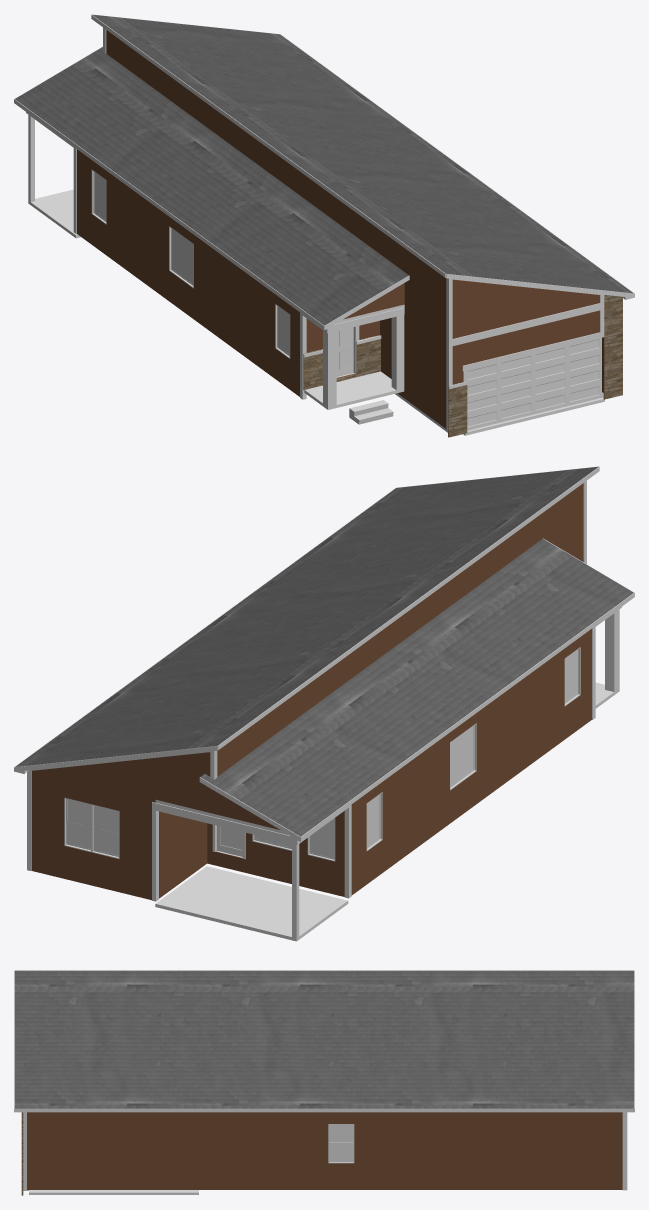
Rendered from 129-1335-dm-modern.glb.
3 views of the same model, one above another, from view 1: azimuth 30°, elevation 25°; view 2: azimuth 150°, elevation 25°; view 3: azimuth 270°, elevation 25° (orthographic). The views are drawn at different scales.
Visible parts, largest first — view 1: Basic Roof Wood Rafter 4" - Asphalt Shingle - Insulated_9c4c, Basic Roof Wood Rafter 4" - Asphalt Shingle - Insulated_3fec, Basic Wall BSB Exterior - Stud_3.5" - Sheathing_0.5" - _a010, Basic Wall BSB Exterior - Stud_3.5" - Sheathing_0.5" - _12ea, Traditional - BSB Exterior - Overhead Garage Door - Clo_92db, Basic Wall BSB Exterior - Stud_3.5" - Sheathing_0.5" - _44ac, Fascia Fascia-Flat 1x6 w/12" Soffit Bd [4538352], Basic Wall BSB Exterior - Stud_3.5" - Sheathing_0.5" - _518d, Basic Wall BSB Exterior - Stud_3.5" - Sheathing_0.5" - _adc4, Basic Wall BSB Exterior - Stud_3.5" - Sheathing_0.5" - _a289, Basic Wall BSB Exterior - Stone Veneer_2" [4522502], Trim - Corner Boards3 Trim - Corner Boards [4522610] (+18 smaller); view 2: Basic Roof Wood Rafter 4" - Asphalt Shingle - Insulated_9c4c, Basic Roof Wood Rafter 4" - Asphalt Shingle - Insulated_3fec, Basic Wall BSB Exterior - Stud_3.5" - Sheathing_0.5" - _a010, Basic Wall BSB Exterior - Stud_3.5" - Sheathing_0.5" - _12ea, Basic Wall BSB Exterior - Stud_3.5" - Sheathing_0.5" - _e5d4, Floor BSB Concrete Slab - 4" - Slope Option [4260206], Basic Wall BSB Exterior - Stud_3.5" - Sheathing_0.5" - _44ac, Fascia Fascia-Flat 1x6 w/12" Soffit Bd [4538352], Basic Wall BSB Exterior - Stud_3.5" - Sheathing_0.5" - _2ec2, Basic Wall BSB Exterior - Stud_3.5" - Sheathing_0.5" - _a39f, Basic Wall BSB Exterior - Stud_3.5" - Sheathing_0.5" - _99a9, Trim - Corner Boards3 Trim - Corner Boards [4522610] (+10 smaller); view 3: Basic Roof Wood Rafter 4" - Asphalt Shingle - Insulated_9c4c, Basic Wall BSB Exterior - Stud_3.5" - Sheathing_0.5" - _4cd1, Basic Wall BSB Exterior - Stud_3.5" - Sheathing_0.5" - _eddb, Basic Wall BSB Exterior - Stud_3.5" - Sheathing_0.5" - _c46c, Fascia Fascia-Flat 1x6 w/12" Soffit Bd [4538352], BSB Single Hung 3050 SH w/ Sill [4265274], Floor BSB Concrete Slab - 4" - Slope Option [4274134], Trim - Corner Boards3 Trim - Corner Boards [4522610].
Boxes of the visible parts, bbox=[...] form: Basic Roof Wood Rafter 4" - Asphalt Shingle - Insulated_9c4c: bbox=[92, 14, 633, 293]; Basic Roof Wood Rafter 4" - Asphalt Shingle - Insulated_3fec: bbox=[15, 47, 408, 325]; Basic Wall BSB Exterior - Stud_3.5" - Sheathing_0.5" - _a010: bbox=[77, 149, 218, 336]; Basic Wall BSB Exterior - Stud_3.5" - Sheathing_0.5" - _12ea: bbox=[106, 30, 446, 334]; Traditional - BSB Exterior - Overhead Garage Door - Clo_92db: bbox=[467, 337, 603, 430]; Basic Wall BSB Exterior - Stud_3.5" - Sheathing_0.5" - _44ac: bbox=[218, 253, 297, 394]; Fascia Fascia-Flat 1x6 w/12" Soffit Bd [4538352]: bbox=[14, 14, 633, 329]; Basic Wall BSB Exterior - Stud_3.5" - Sheathing_0.5" - _518d: bbox=[452, 279, 599, 338]; Basic Wall BSB Exterior - Stud_3.5" - Sheathing_0.5" - _adc4: bbox=[380, 305, 446, 428]; Basic Wall BSB Exterior - Stud_3.5" - Sheathing_0.5" - _a289: bbox=[452, 310, 603, 392]; Basic Wall BSB Exterior - Stone Veneer_2" [4522502]: bbox=[603, 295, 622, 399]; Trim - Corner Boards3 Trim - Corner Boards [4522610]: bbox=[73, 27, 604, 430]; Basic Roof Wood Rafter 4" - Asphalt Shingle - Insulated_9c4c: bbox=[15, 466, 598, 766]; Basic Roof Wood Rafter 4" - Asphalt Shingle - Insulated_3fec: bbox=[200, 538, 633, 836]; Basic Wall BSB Exterior - Stud_3.5" - Sheathing_0.5" - _a010: bbox=[351, 694, 502, 895]; Basic Wall BSB Exterior - Stud_3.5" - Sheathing_0.5" - _12ea: bbox=[217, 483, 583, 776]; Basic Wall BSB Exterior - Stud_3.5" - Sheathing_0.5" - _e5d4: bbox=[31, 770, 155, 900]; Floor BSB Concrete Slab - 4" - Slope Option [4260206]: bbox=[155, 866, 348, 941]; Basic Wall BSB Exterior - Stud_3.5" - Sheathing_0.5" - _44ac: bbox=[503, 631, 588, 784]; Fascia Fascia-Flat 1x6 w/12" Soffit Bd [4538352]: bbox=[15, 466, 634, 840]; Basic Wall BSB Exterior - Stud_3.5" - Sheathing_0.5" - _2ec2: bbox=[36, 752, 279, 829]; Basic Wall BSB Exterior - Stud_3.5" - Sheathing_0.5" - _a39f: bbox=[207, 811, 344, 896]; Basic Wall BSB Exterior - Stud_3.5" - Sheathing_0.5" - _99a9: bbox=[159, 811, 207, 898]; Trim - Corner Boards3 Trim - Corner Boards [4522610]: bbox=[27, 481, 595, 901]; Basic Roof Wood Rafter 4" - Asphalt Shingle - Insulated_9c4c: bbox=[14, 970, 634, 1108]; Basic Wall BSB Exterior - Stud_3.5" - Sheathing_0.5" - _4cd1: bbox=[201, 1112, 622, 1189]; Basic Wall BSB Exterior - Stud_3.5" - Sheathing_0.5" - _eddb: bbox=[96, 1112, 200, 1189]; Basic Wall BSB Exterior - Stud_3.5" - Sheathing_0.5" - _c46c: bbox=[27, 1112, 96, 1189]; Fascia Fascia-Flat 1x6 w/12" Soffit Bd [4538352]: bbox=[14, 970, 634, 1112]; BSB Single Hung 3050 SH w/ Sill [4265274]: bbox=[328, 1124, 354, 1163]; Floor BSB Concrete Slab - 4" - Slope Option [4274134]: bbox=[23, 1190, 198, 1194]; Trim - Corner Boards3 Trim - Corner Boards [4522610]: bbox=[23, 1112, 627, 1190].
Size of the model in its own units: 9.49 by 5.84 by 21.88.
3 materials, 2 textured.
